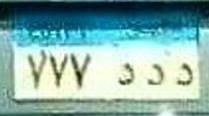7: (69, 51, 93, 88), (26, 51, 47, 91), (48, 54, 69, 90)
daal: (145, 60, 166, 88), (174, 59, 194, 87), (116, 62, 136, 88)
